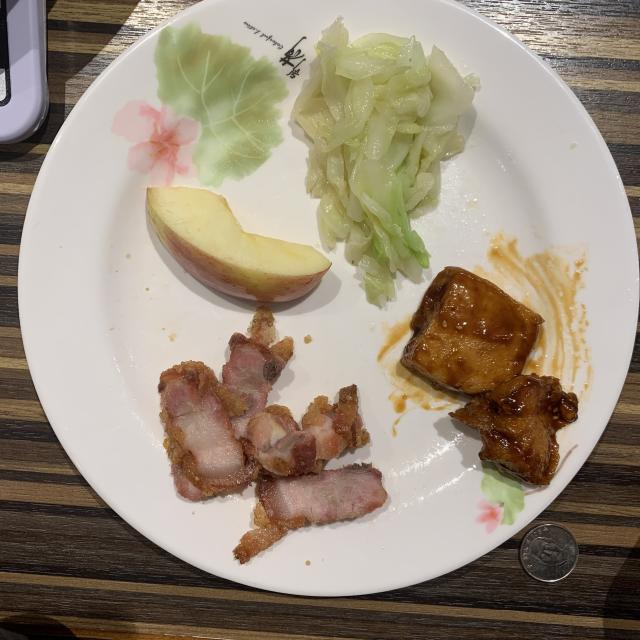apple -sliced-: (146, 188, 331, 302)
cabbage: (292, 18, 479, 305)
coin: (520, 524, 579, 582)
creamy tofu: (401, 266, 579, 486)
red grilled pork: (159, 306, 388, 562)
